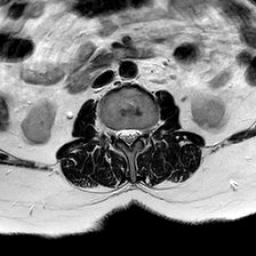CCS_normal: (124, 120, 132, 155)
LFS_normal: (140, 118, 148, 142)
LLS_normal: (132, 118, 140, 146)
RFS_normal: (107, 117, 116, 142)
RLS_normal: (116, 120, 124, 148)
